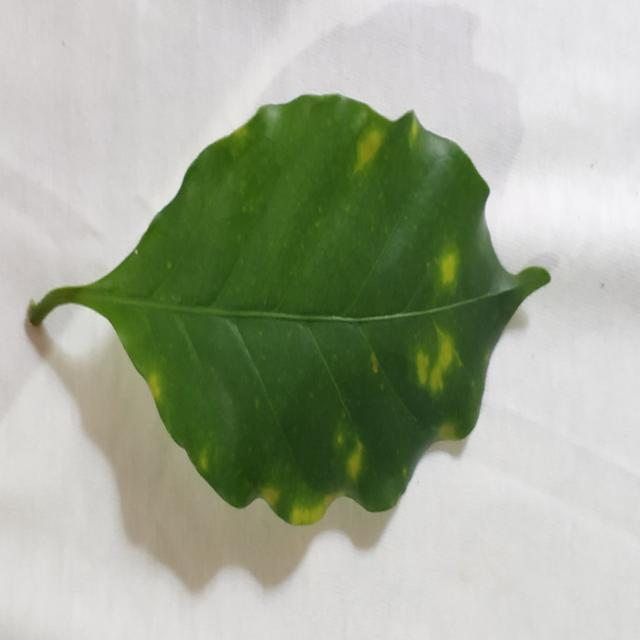Enfermedad-Roya: (26, 94, 551, 529)
